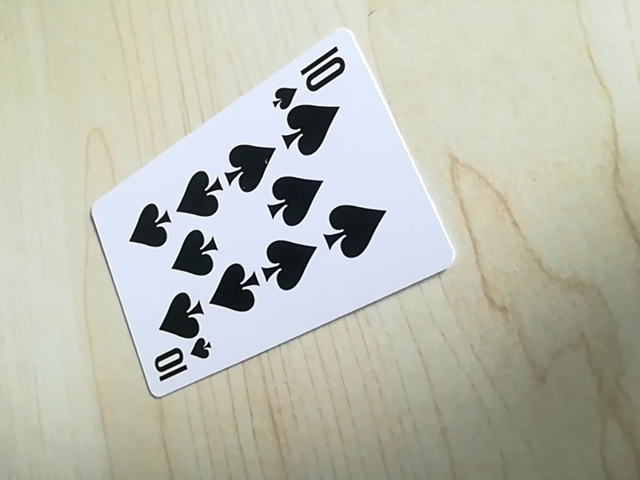ht 10: (269, 41, 356, 105), (144, 336, 213, 392)
